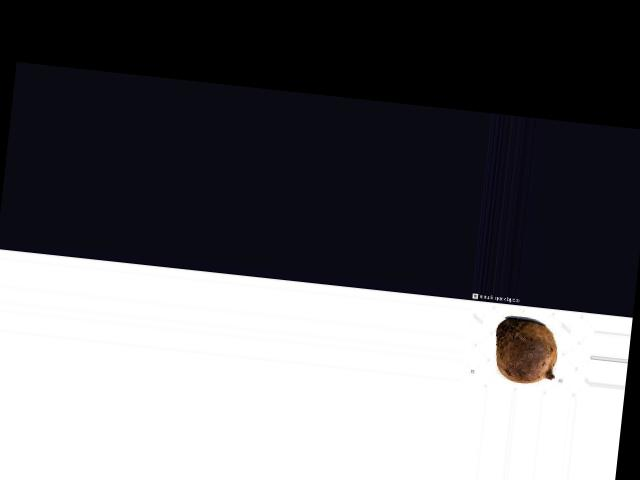beet: (491, 316, 561, 386)
